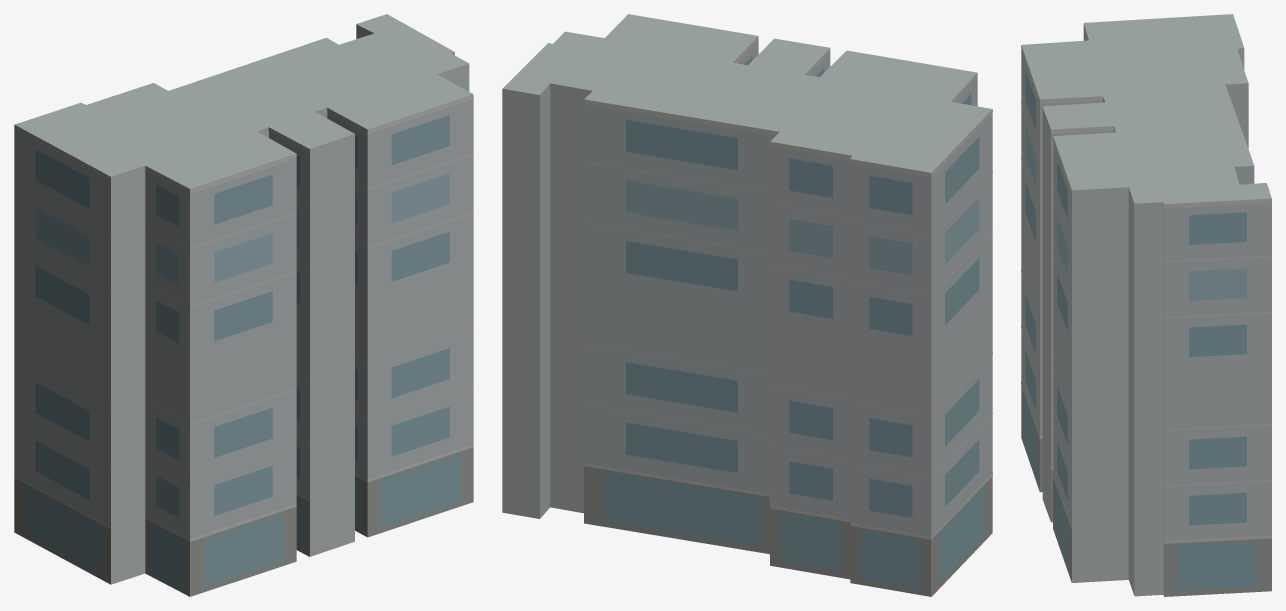
File: survey-upis-32703624.glb
3 views of the same model, side by side, from view 1: azimuth 30°, elevation 25°; view 2: azimuth 150°, elevation 25°; view 3: azimuth 270°, elevation 25° (orthographic). The views are drawn at different scales.
Parts seen in each view (by area): view 1: survey-upis-32703624.tmp; view 2: survey-upis-32703624.tmp; view 3: survey-upis-32703624.tmp.
Part boxes in pixels (bbox=[...]): survey-upis-32703624.tmp: bbox=[14, 14, 473, 596]; survey-upis-32703624.tmp: bbox=[502, 14, 992, 596]; survey-upis-32703624.tmp: bbox=[1021, 14, 1271, 596].
Size of the model in its own units: 21.32 by 20.5 by 11.87.
